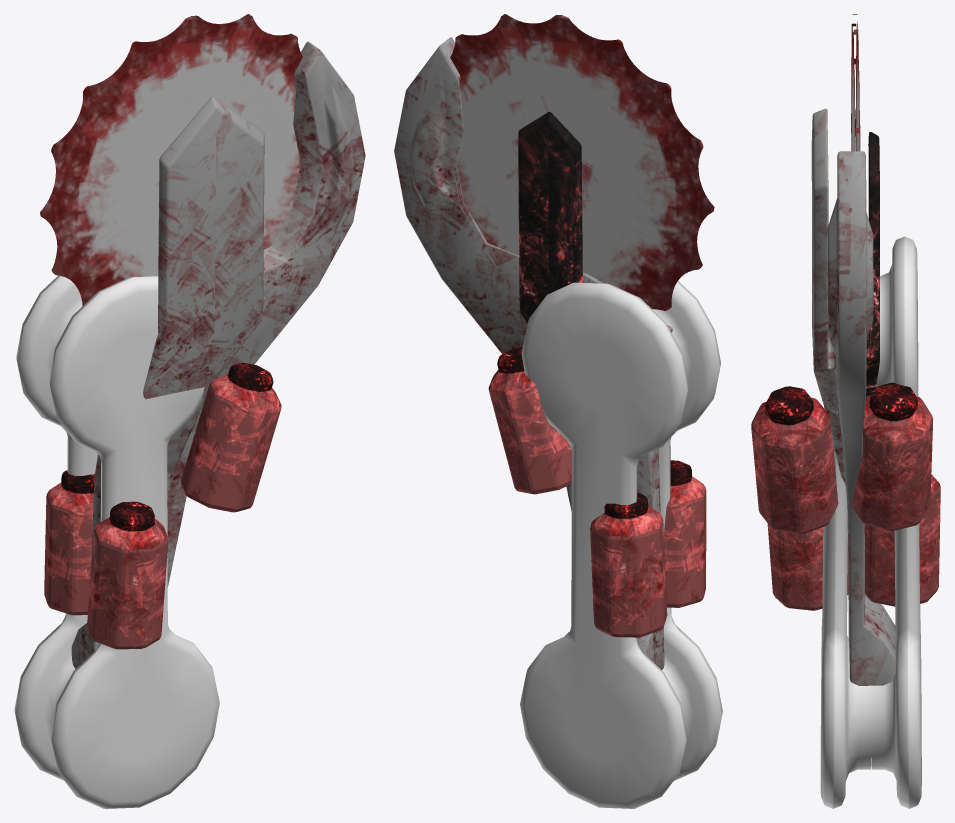
The model's file is rapid1.glb.
The picture shows the model from 3 angles, left to right: view 1: azimuth 30°, elevation 25°; view 2: azimuth 150°, elevation 25°; view 3: azimuth 270°, elevation 25°; orthographic projection. The views are drawn at different scales.
Visible parts, largest first — view 1: 1.002, 0.007; view 2: 1.002, 0.007; view 3: 1.002, 0.007.
Boxes of the visible parts, x1,y1,x2,y2 form: 1.002: (40, 14, 365, 668); 0.007: (14, 275, 219, 808); 1.002: (394, 14, 714, 669); 0.007: (520, 281, 722, 808); 1.002: (751, 14, 940, 685); 0.007: (820, 236, 921, 808).
Size of the model in its own units: 0.8317 by 1.91 by 0.4098.
2 materials, 1 textured.
